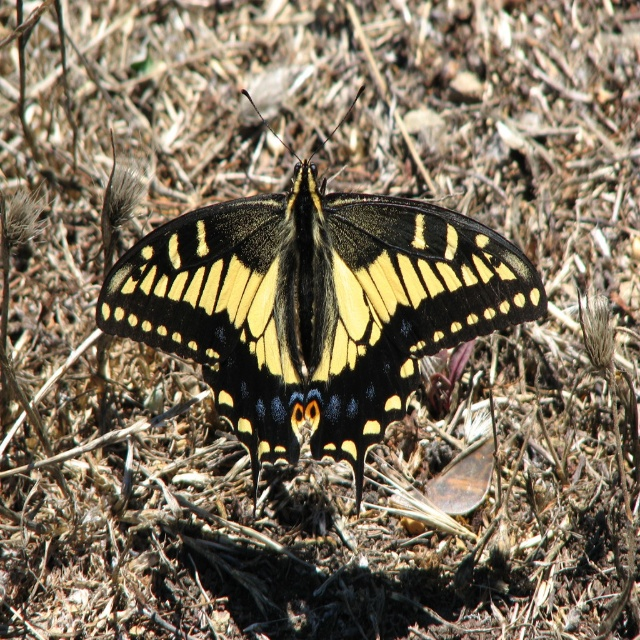Butterfly: (86, 98, 535, 476)
